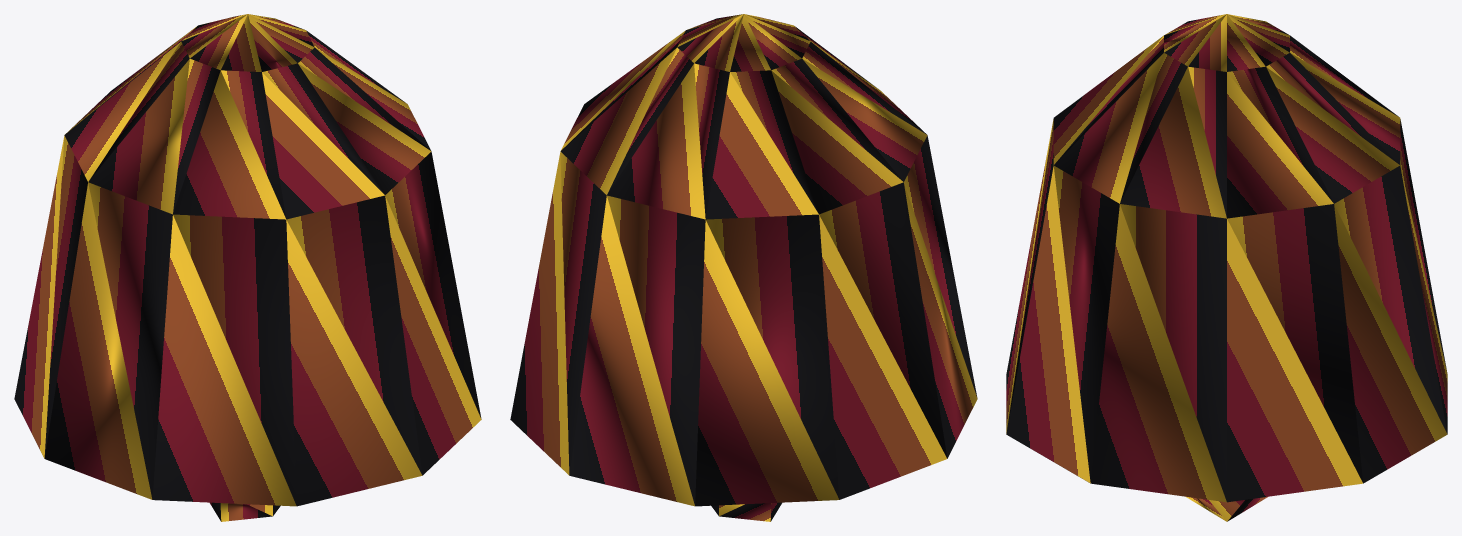
Rendered from bell.glb.
3 renders of one model, left to right at view 1: azimuth 30°, elevation 25°; view 2: azimuth 150°, elevation 25°; view 3: azimuth 270°, elevation 25°, orthographic.
Parts seen in each view (by area): view 1: bell; view 2: bell; view 3: bell.
Boxes of the visible parts, x1,y1,x2,y2 form: bell: (14,14,481,521); bell: (510,14,977,521); bell: (1006,14,1447,521).
Bounding box in the file's own units: 0.56 × 0.6595 × 0.5326.
1 material, 1 textured.
